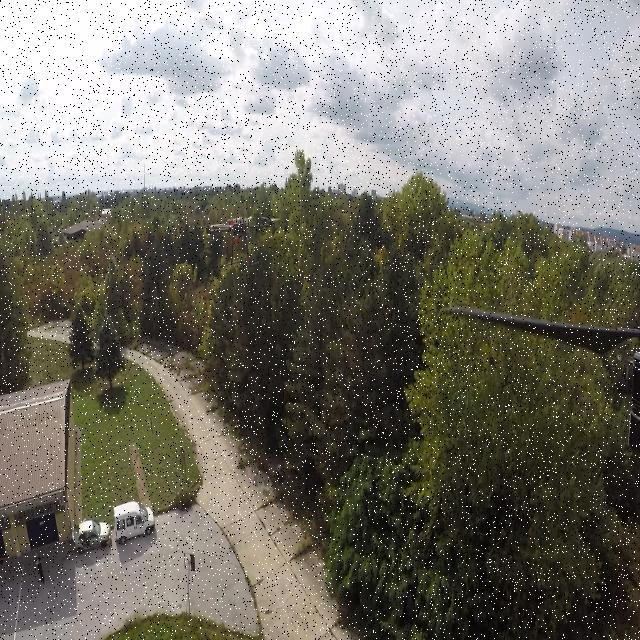UAV: (190, 206, 282, 272)
